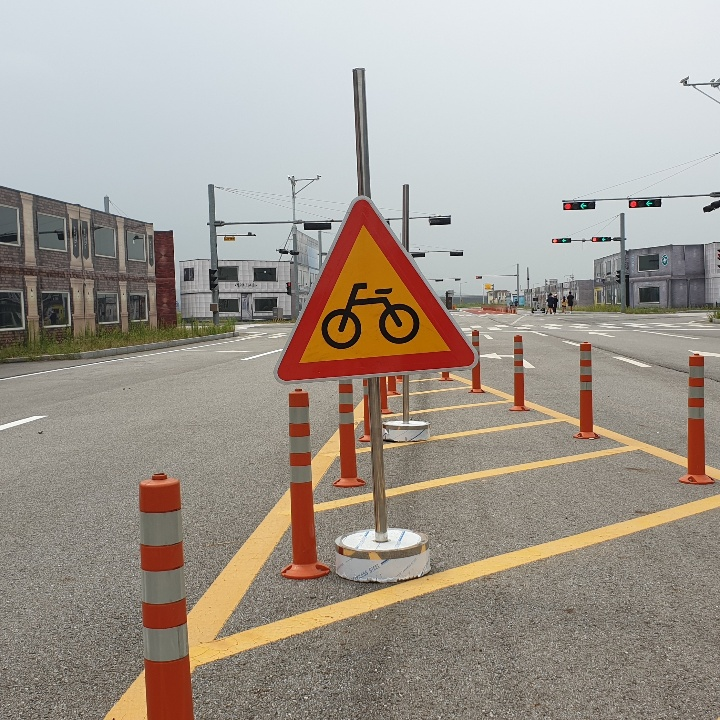bicycle: (280, 195, 476, 375)
